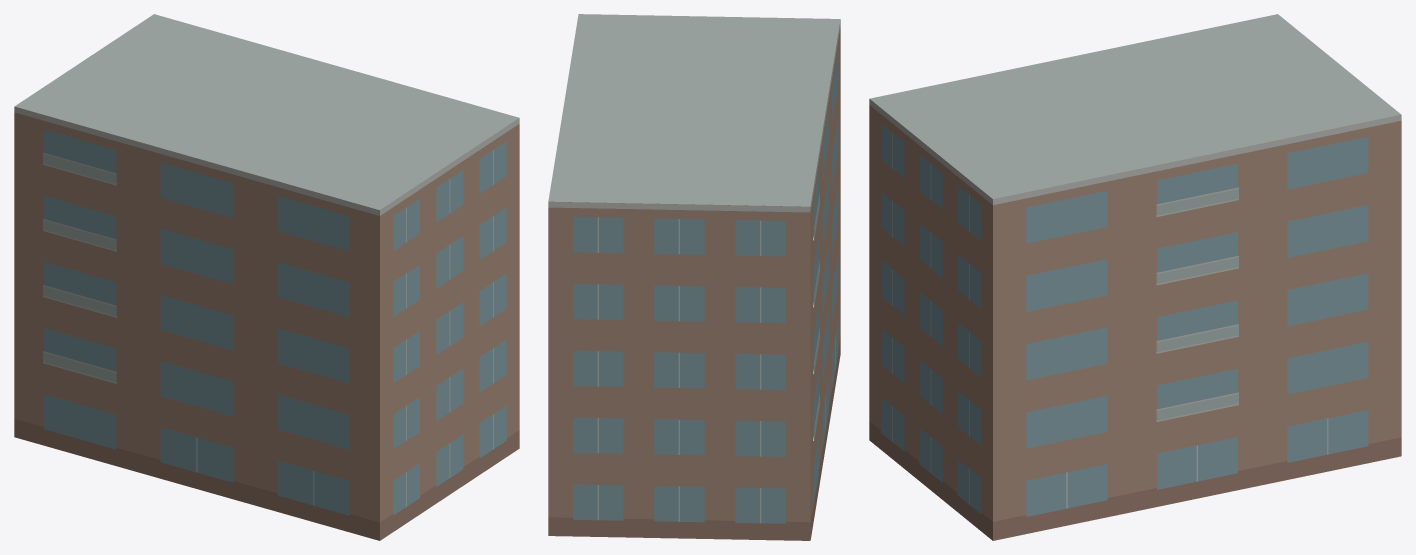
File: survey-upis-32831028.glb
The picture shows the model from 3 angles, left to right: view 1: azimuth 30°, elevation 25°; view 2: azimuth 150°, elevation 25°; view 3: azimuth 270°, elevation 25°; orthographic projection. The views are drawn at different scales.
Parts seen in each view (by area): view 1: survey-upis-32831028.tmp; view 2: survey-upis-32831028.tmp; view 3: survey-upis-32831028.tmp.
Boxes of the visible parts, <box> form: survey-upis-32831028.tmp: <box>14,14,519,540</box>; survey-upis-32831028.tmp: <box>548,14,840,540</box>; survey-upis-32831028.tmp: <box>869,14,1401,540</box>.
Bounding box in the file's own units: 16.17 × 13.9 × 19.63.
